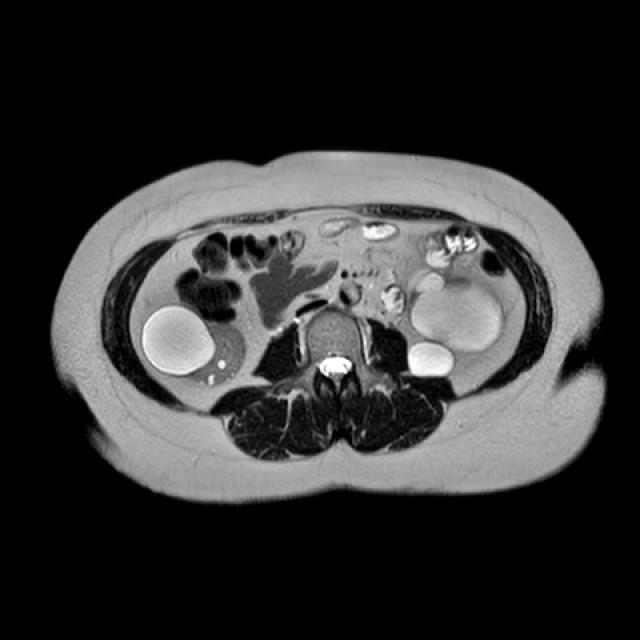sag: (140, 303, 247, 385)
sol: (406, 264, 505, 379)
